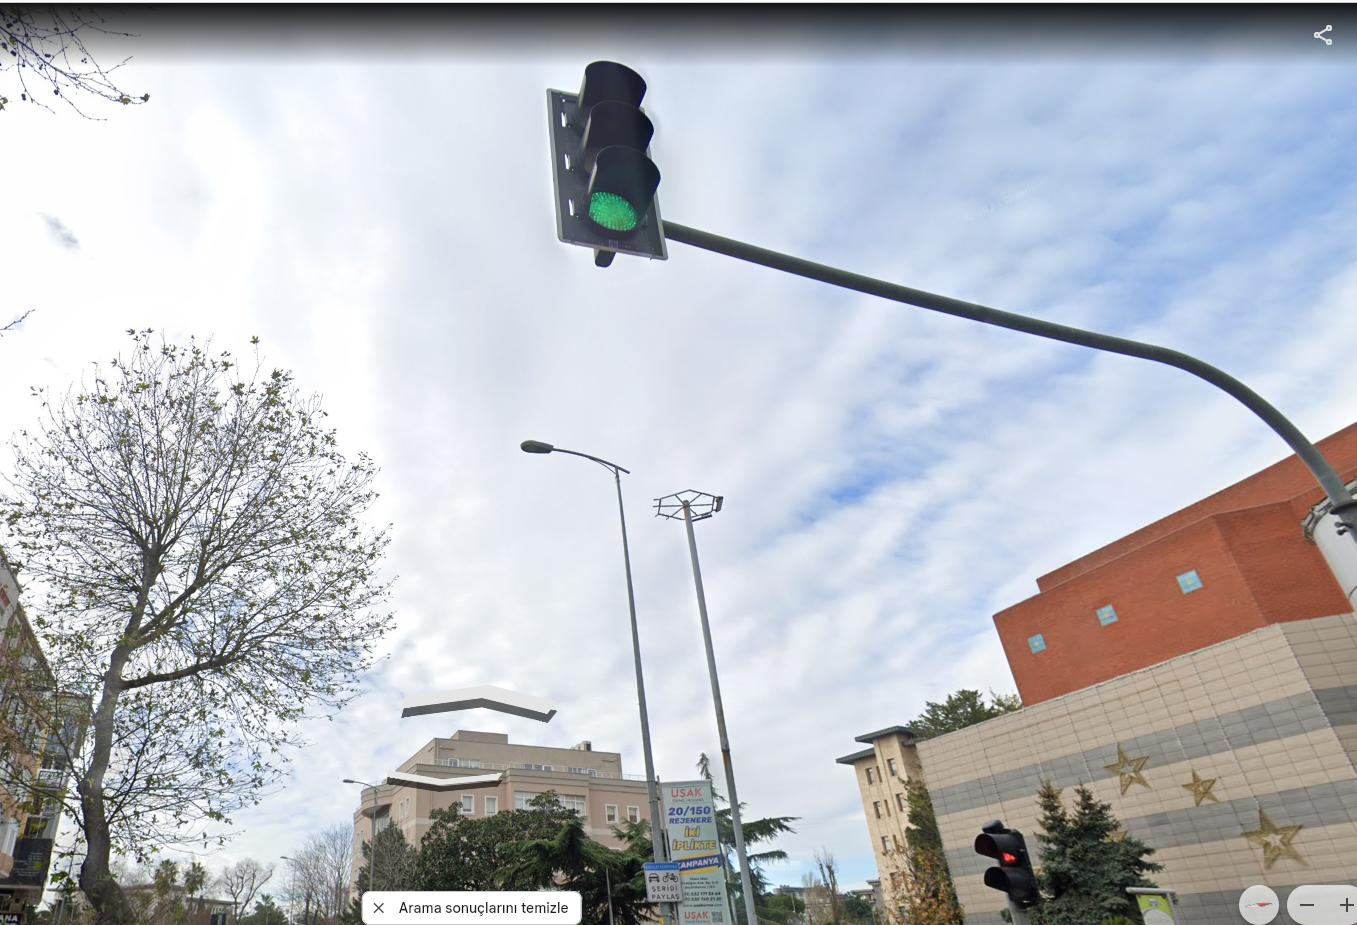greenlight: (555, 68, 667, 242)
